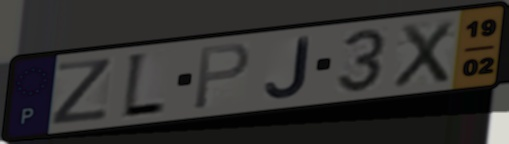3: (331, 26, 391, 95)
J: (263, 34, 312, 100)
L: (119, 51, 168, 123)
P: (190, 40, 253, 113)
X: (389, 17, 456, 91)
Z: (48, 56, 116, 128)
